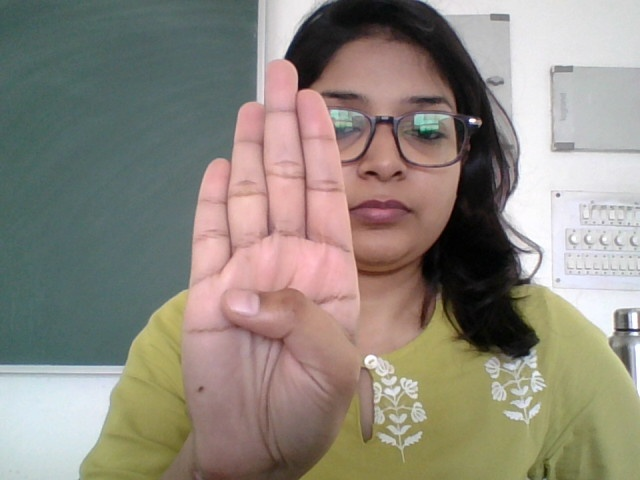B: (171, 53, 376, 465)
